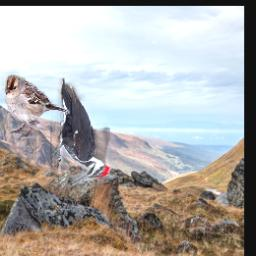Sparrow: (3, 76, 71, 139)
Woodpecker: (51, 77, 111, 183)
